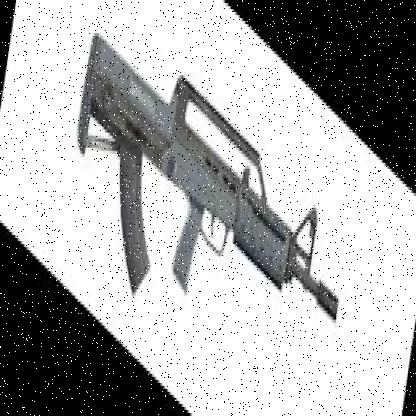rifle: (57, 0, 346, 416)
